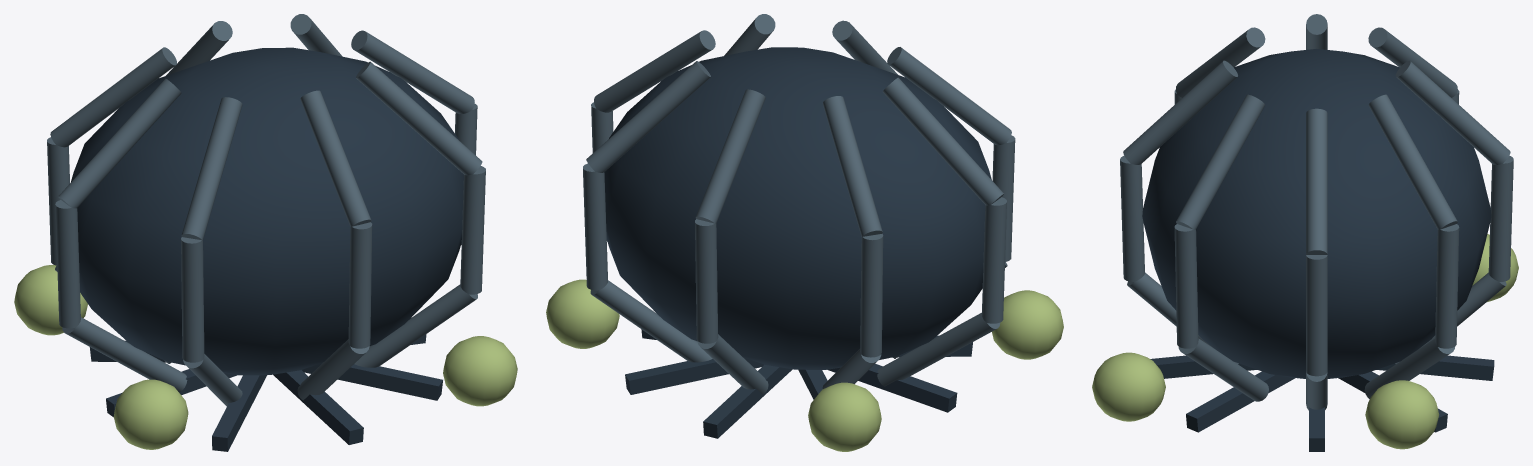
Rendered from CMU3DHiveRMCHiveCocoonKing.glb.
The picture shows the model from 3 angles, left to right: view 1: azimuth 30°, elevation 25°; view 2: azimuth 150°, elevation 25°; view 3: azimuth 270°, elevation 25°; orthographic projection.
Visible parts, largest first — view 1: complete organ body, raised curved organ rib (×18), nutrient sac (×3), anchoring root (×4); view 2: complete organ body, raised curved organ rib (×18), nutrient sac (×3), anchoring root (×4); view 3: complete organ body, raised curved organ rib (×18), nutrient sac (×3), anchoring root (×5).
Part boxes in pixels (x1=…): complete organ body: x1=71, y1=47, x2=463, y2=375; raised curved organ rib (×18): x1=47, y1=14, x2=485, y2=406; nutrient sac (×3): x1=14, y1=265, x2=517, y2=449; anchoring root (×4): x1=106, y1=362, x2=442, y2=451; complete organ body: x1=604, y1=47, x2=991, y2=369; raised curved organ rib (×18): x1=583, y1=14, x2=1015, y2=394; nutrient sac (×3): x1=546, y1=279, x2=1063, y2=451; anchoring root (×4): x1=625, y1=357, x2=957, y2=438; complete organ body: x1=1142, y1=49, x2=1491, y2=378; raised curved organ rib (×18): x1=1120, y1=14, x2=1513, y2=410; nutrient sac (×3): x1=1092, y1=234, x2=1518, y2=449; anchoring root (×5): x1=1150, y1=355, x2=1494, y2=451.
Size of the model in its own units: 1.67 by 1.23 by 1.5.
